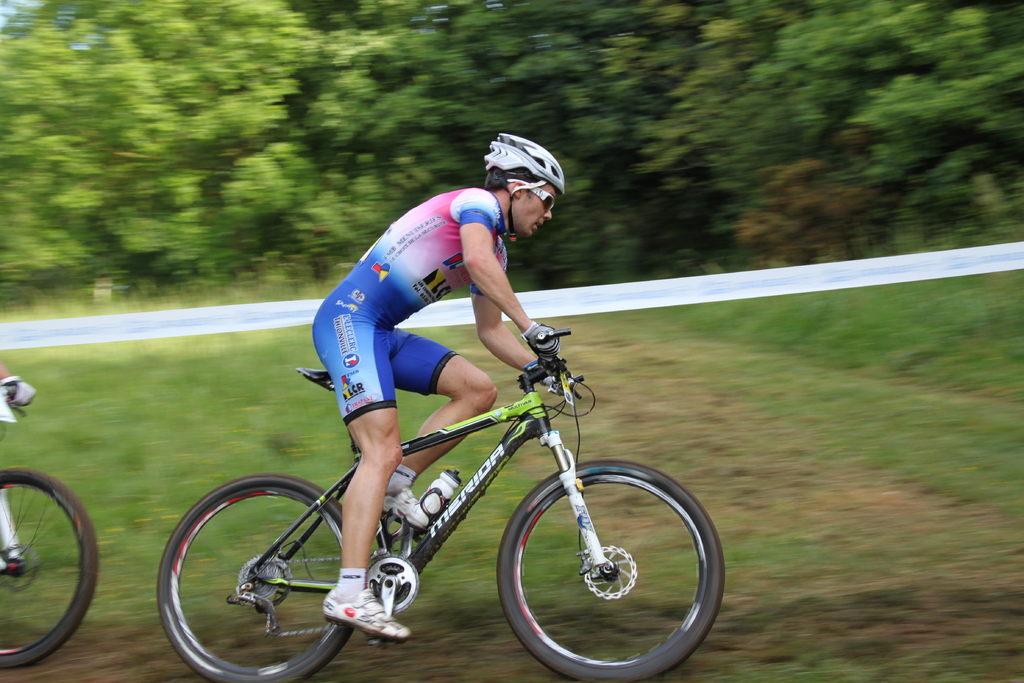Person: (311, 132, 564, 640), (0, 364, 36, 407)
